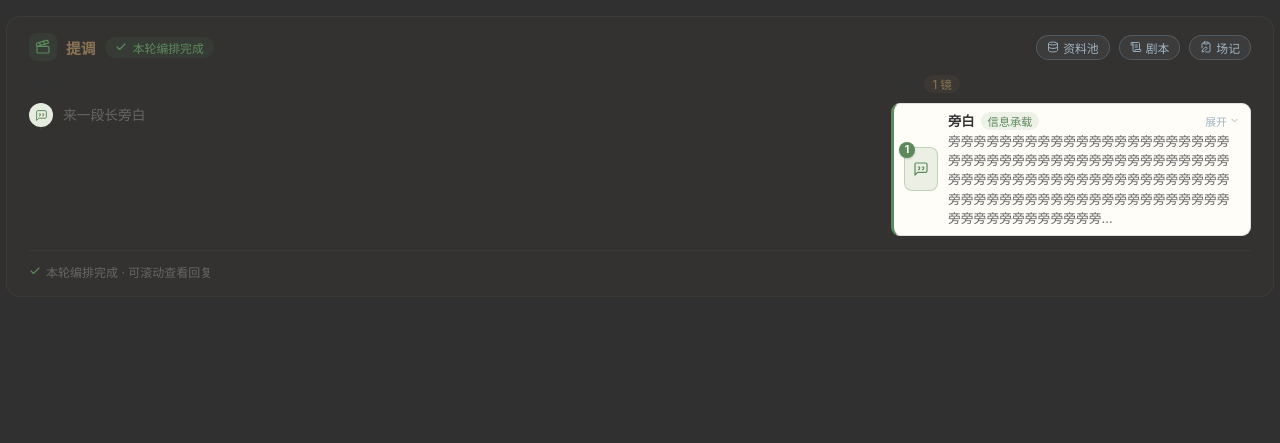
Test case: TidiaoDirectorStreamBand › 形态1·E5 角色镜钻取（per-speaker 过程可见性） › （批次B）超长方向无明细：旁白镜也挂「展开」，折叠截断 100 字 + 省略号，展开看全文
Expected: the text with class "tds-shot-dir" shows "…", [948, 132, 1240, 228]
// 展开 → 全文，无省略号；旁白镜恒有「定方向→生成旁白」narrationGen 抽屉
Click the button with class "tds-shot-drill": [1223, 120] box [1205, 112, 1240, 128]
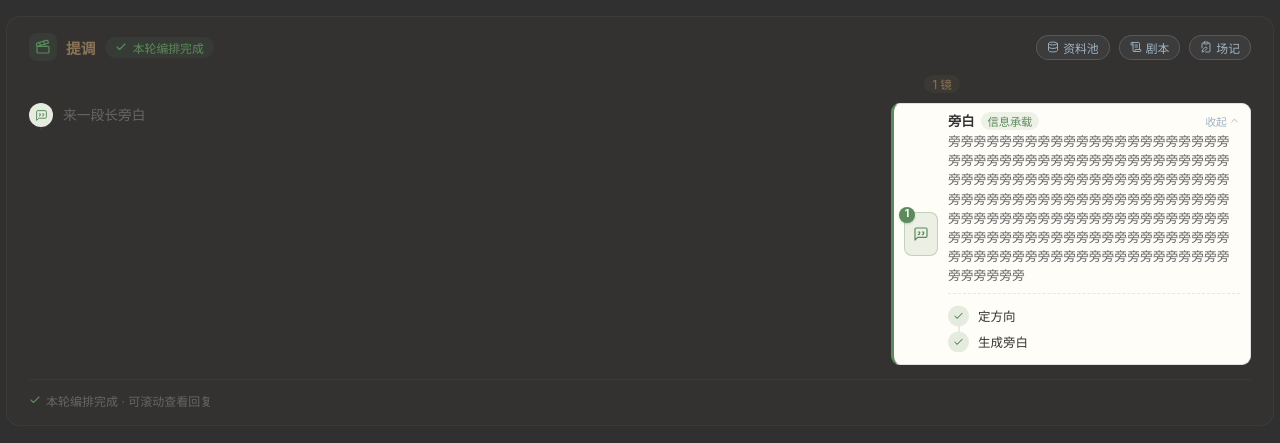
Result: the element with class "tds-shot-detail" is shown at [948, 292, 1240, 356]
Result: the element with class "tds-shot-detail" shows "生成旁白" at [978, 334, 1028, 350]
